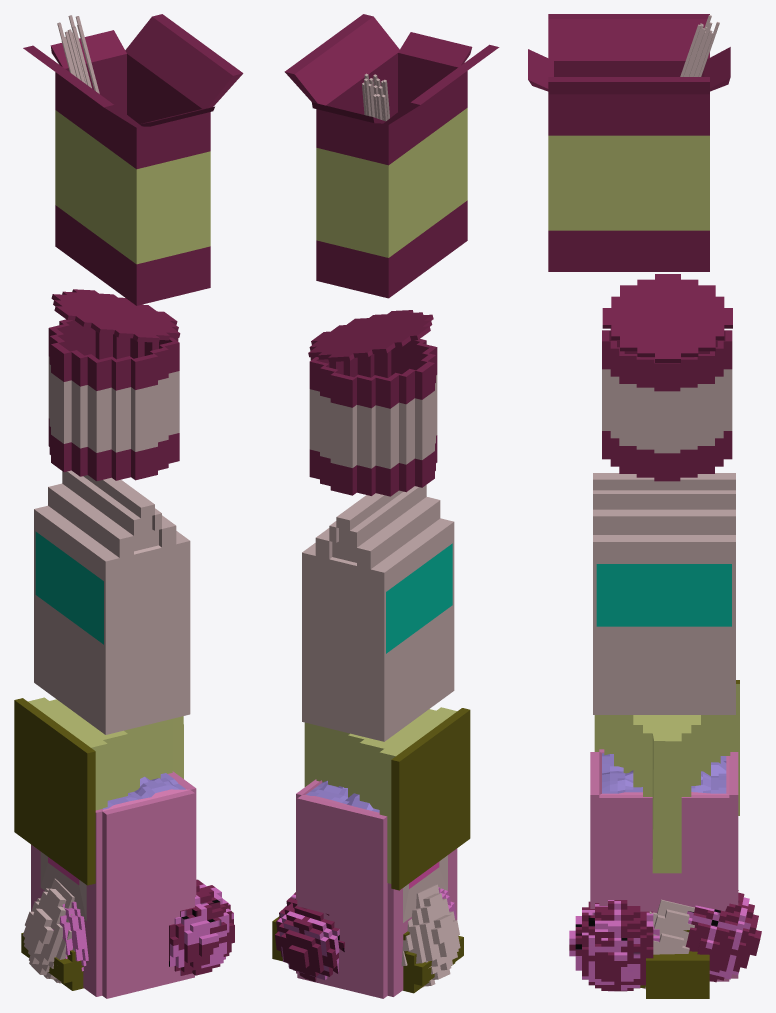
Rendered from Cooking objects.fbx.
3 views of the same model, side by side, from view 1: azimuth 30°, elevation 25°; view 2: azimuth 150°, elevation 25°; view 3: azimuth 270°, elevation 25° (orthographic). The views are drawn at different scales.
Visible parts, largest first — view 1: Noodle box, Milk, Tomato can, Flour, Cheese, Meatball, Eggs, Potato; view 2: Noodle box, Milk, Tomato can, Flour, Cheese, Meatball, Eggs, Potato; view 3: Noodle box, Milk, Tomato can, Flour, Cheese, Meatball, Potato, Eggs.
Boxes of the visible parts, x1,y1,x2,y2 form: Noodle box: (23,14,243,305); Milk: (34,470,190,734); Tomato can: (48,289,180,481); Flour: (31,771,196,998); Cheese: (14,697,183,885); Meatball: (53,879,234,975); Eggs: (22,878,74,983); Potato: (21,932,83,990); Noodle box: (284,14,499,298); Milk: (302,485,454,741); Tomato can: (308,310,437,496); Flour: (296,779,457,998); Cheese: (304,707,470,890); Meatball: (275,887,456,981); Eggs: (401,884,460,987); Potato: (272,916,463,993); Noodle box: (528,14,730,271); Milk: (593,473,735,714); Tomato can: (602,274,732,481); Flour: (590,749,738,981); Cheese: (594,680,739,873); Meatball: (569,890,761,991); Potato: (640,930,709,998); Eggs: (642,899,694,989).
Size of the model in its own units: 8.73 by 45.62 by 10.24.
